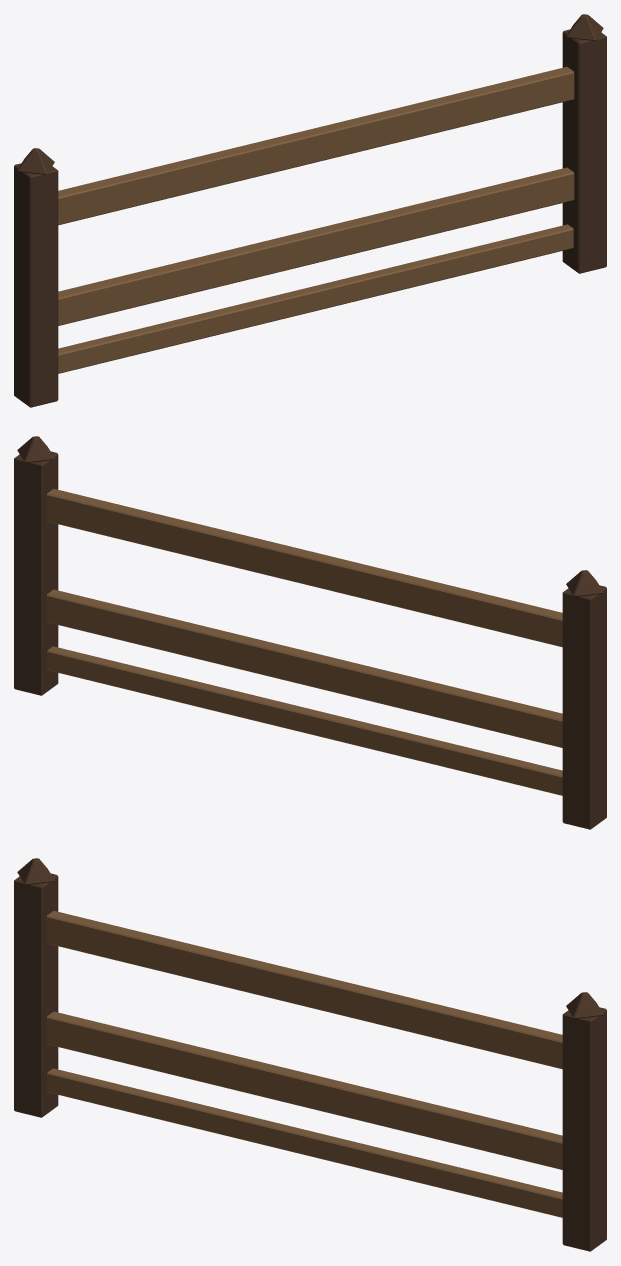
Rendered from V_Barriere.glb.
3 views of the same model, one above another, from view 1: azimuth 30°, elevation 25°; view 2: azimuth 150°, elevation 25°; view 3: azimuth 330°, elevation 25° (orthographic).
Parts seen in each view (by area): view 1: V_Barriere; view 2: V_Barriere; view 3: V_Barriere.
Boxes of the visible parts, box(x1,y1,x2,y2) form: V_Barriere: box(14, 14, 606, 407); V_Barriere: box(14, 436, 606, 829); V_Barriere: box(14, 858, 606, 1251).
Size of the model in its own units: 3.04 by 1.24 by 0.193.
